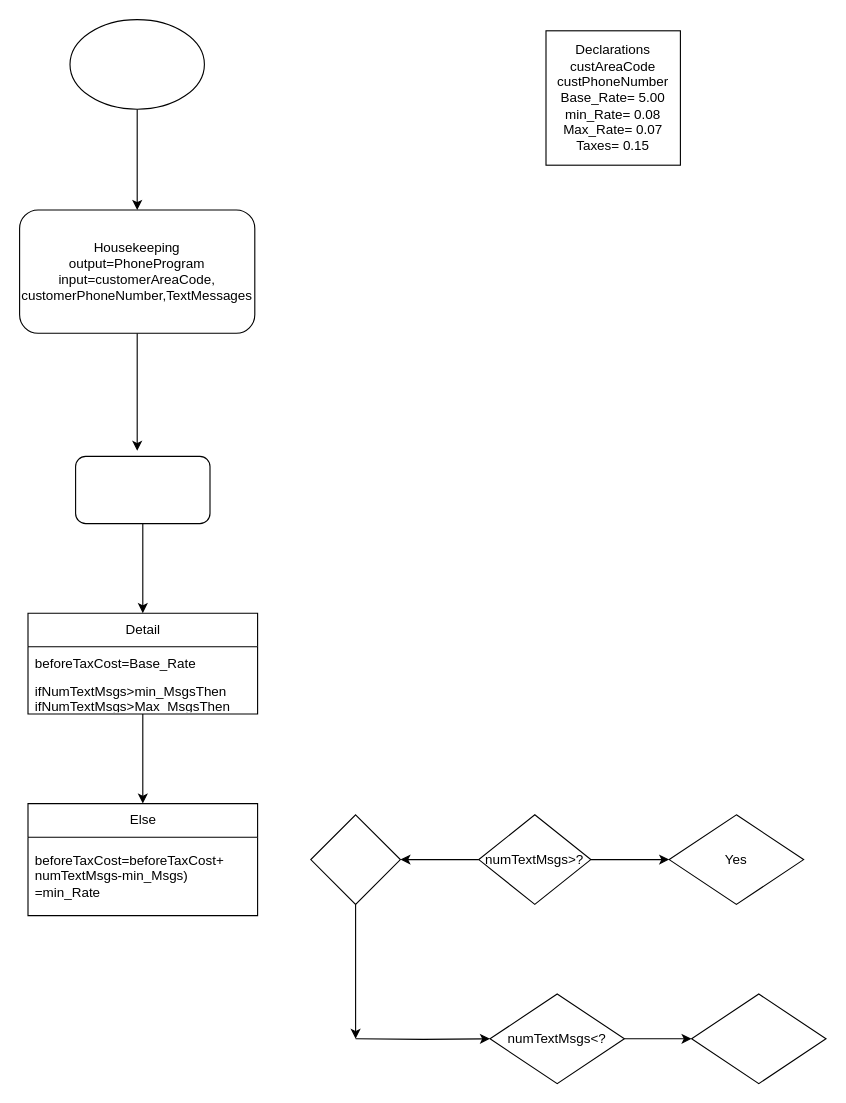
Some shapes in this 846 by 1103 pixel diagram are drawn without their labels. The shapes that lost their labels are listed below. From the top down, each one's centre as x and y in pixels, then its label:
At pixel 136 63: "Start".
At pixel 142 489: "Return".
At pixel 355 859: "No".
At pixel 758 1038: "(beforeTaxCost +TotalCost=".
